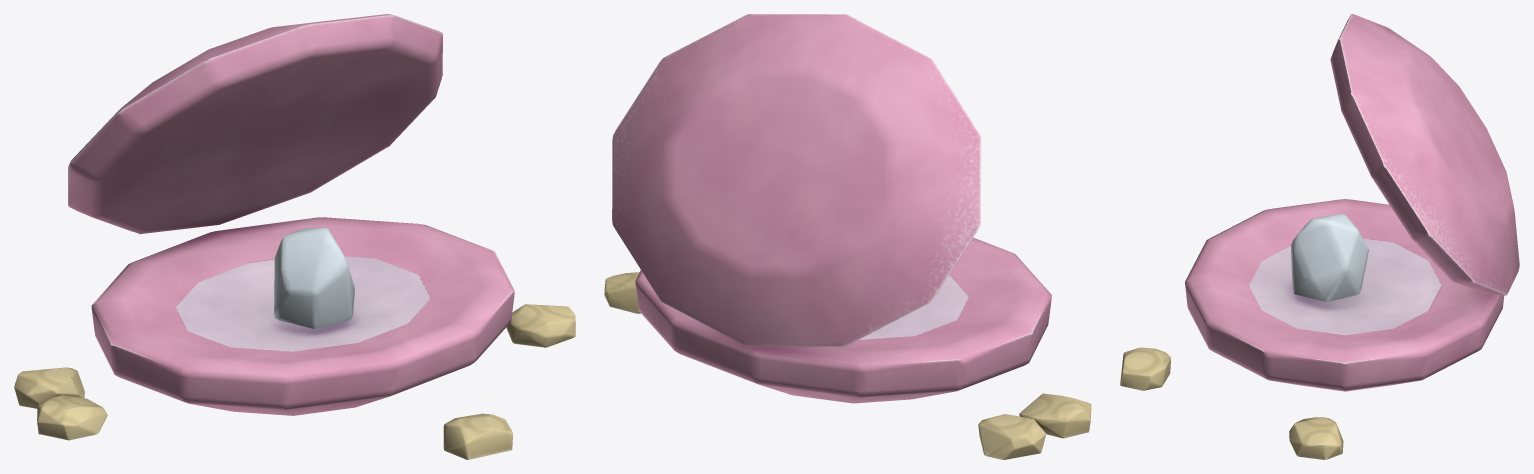
File: Abysses_Coquillage.fbx
3 views of the same model, side by side, from view 1: azimuth 30°, elevation 25°; view 2: azimuth 150°, elevation 25°; view 3: azimuth 270°, elevation 25° (orthographic). The views are drawn at different scales.
Visible parts, largest first — view 1: Abysses_Coquillage; view 2: Abysses_Coquillage; view 3: Abysses_Coquillage.
Boxes of the visible parts, x1,y1,x2,y2 form: Abysses_Coquillage: (14,14,575,459); Abysses_Coquillage: (604,14,1091,459); Abysses_Coquillage: (1120,14,1519,459).
Size of the model in its own units: 1138 by 752 by 872.
1 material, 1 textured.
